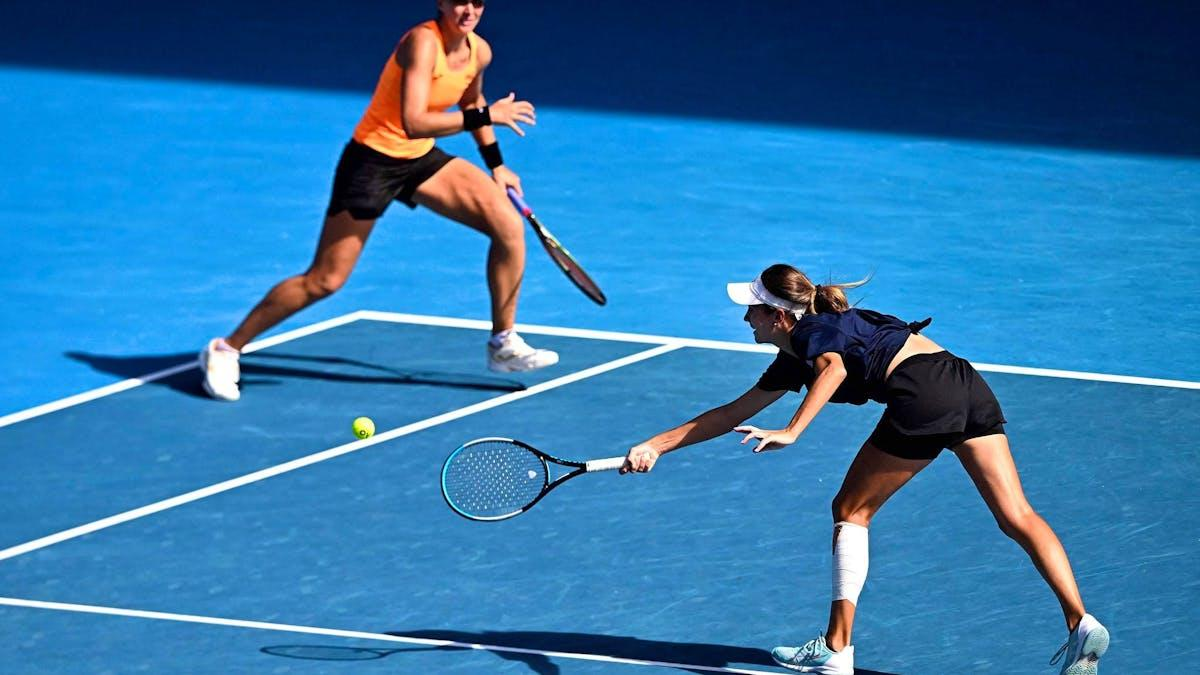ball_tennis: (350, 414, 375, 441)
